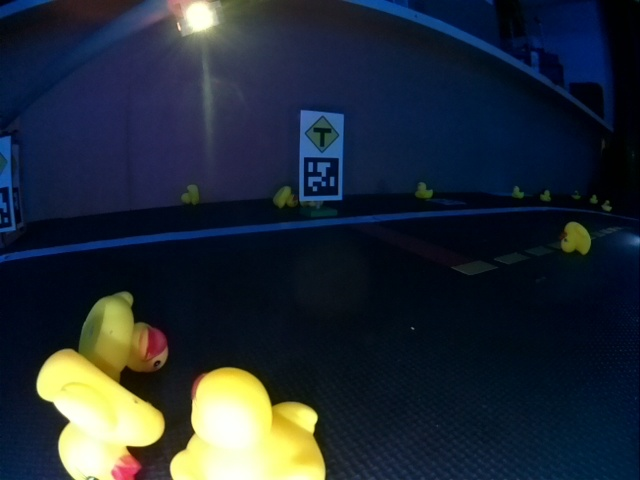Duckie: (170, 367, 322, 473), (37, 350, 153, 477), (85, 291, 168, 371), (560, 222, 591, 253), (274, 186, 298, 207), (180, 185, 200, 203), (417, 181, 433, 199), (511, 186, 524, 198), (589, 194, 599, 204), (602, 202, 612, 212), (543, 189, 551, 201), (571, 190, 580, 200)
Intersection sign: (304, 115, 340, 151)
QR code: (303, 157, 339, 196)
Traffic light: (174, 0, 218, 36)
